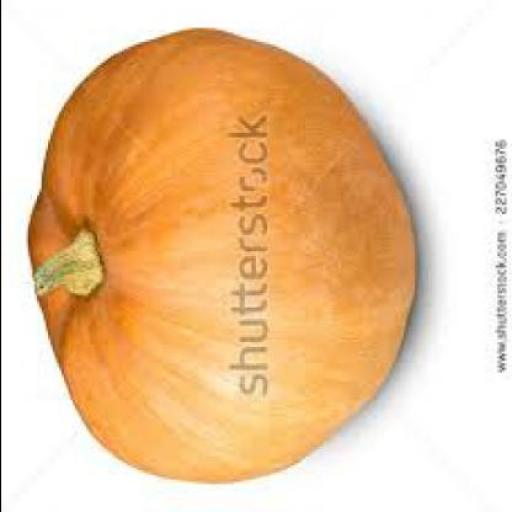biodegradable: (24, 33, 414, 484)
